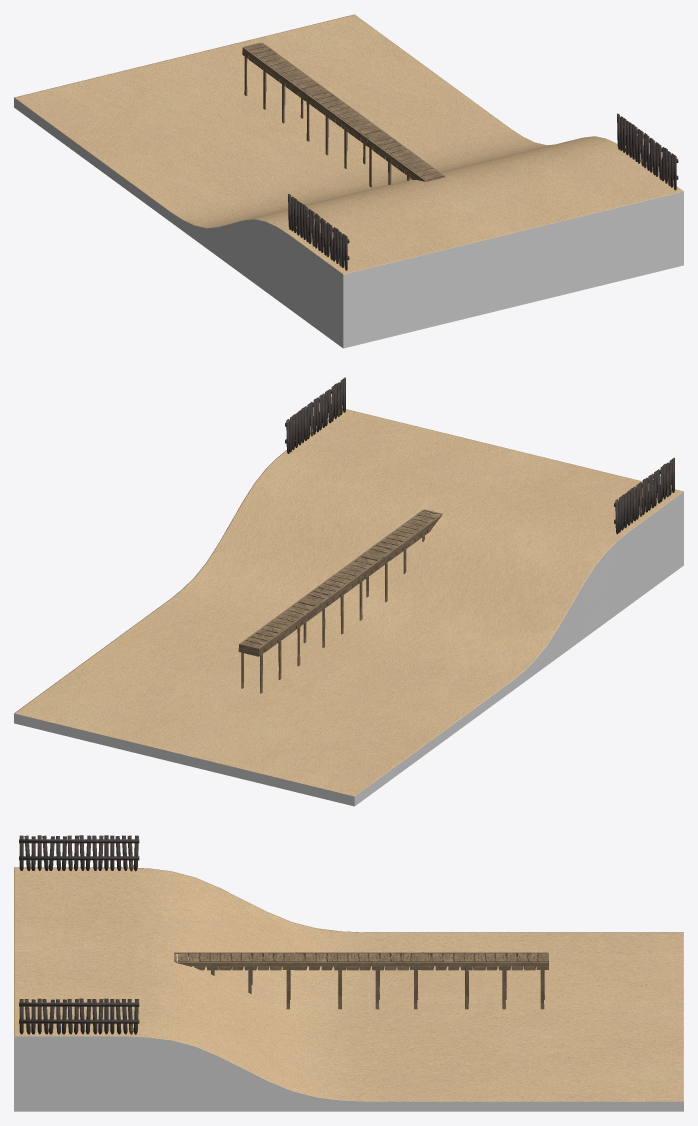
The model's file is wwwunderkammer_AhmedAnsari_bridge.glb.
3 renders of one model, top to bottom at view 1: azimuth 30°, elevation 25°; view 2: azimuth 150°, elevation 25°; view 3: azimuth 270°, elevation 25°, orthographic.
Visible parts, largest first — view 1: ground, bridge1, bridge1.001, Wood_Zabor, Wood_Zabor.001, bridge; view 2: ground, bridge1.001, bridge1, Wood_Zabor, Wood_Zabor.001, bridge; view 3: ground, Wood_Zabor.001, Wood_Zabor, bridge1.001, bridge1, bridge.
Part boxes in pixels (left/top/right/bottom): ground: left=14, top=14, right=683, bottom=348; bridge1: left=305, top=88, right=386, bottom=168; bridge1.001: left=242, top=42, right=324, bottom=123; Wood_Zabor: left=288, top=194, right=349, bottom=270; Wood_Zabor.001: left=617, top=113, right=678, bottom=190; bridge: left=367, top=134, right=445, bottom=187; ground: left=14, top=409, right=683, bottom=806; bridge1.001: left=238, top=598, right=321, bottom=693; bridge1: left=302, top=553, right=384, bottom=647; Wood_Zabor: left=614, top=458, right=674, bottom=534; Wood_Zabor.001: left=285, top=377, right=345, bottom=453; bridge: left=364, top=509, right=442, bottom=602; ground: left=14, top=867, right=683, bottom=1111; Wood_Zabor.001: left=19, top=998, right=139, bottom=1034; Wood_Zabor: left=19, top=835, right=139, bottom=871; bridge1.001: left=421, top=952, right=548, bottom=1009; bridge1: left=294, top=952, right=422, bottom=1009; bridge: left=174, top=952, right=294, bottom=1009.
Bounding box in the file's own units: 55.11 × 16.78 × 92.28.
Materials: 6 (5 with a texture image).
